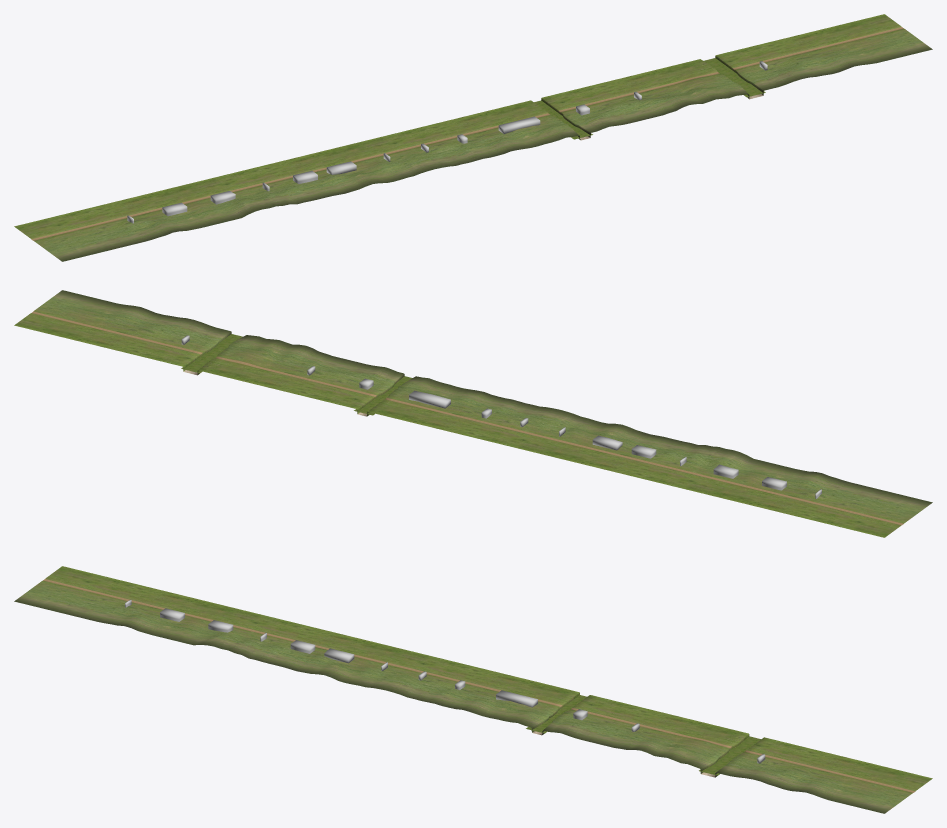
File: LandscapeLevel02.fbx
3 renders of one model, top to bottom at view 1: azimuth 30°, elevation 25°; view 2: azimuth 150°, elevation 25°; view 3: azimuth 330°, elevation 25°, orthographic.
Parts seen in each view (by area): view 1: Plane_001, Plane_020, Plane_021; view 2: Plane_001, Plane_020, Plane_021; view 3: Plane_001, Plane_020, Plane_021.
Part boxes in pixels (box(x1,y1,x2,y2)): Plane_001: box(14, 14, 932, 261); Plane_020: box(127, 61, 767, 223); Plane_021: box(534, 58, 765, 139); Plane_001: box(14, 290, 932, 537); Plane_020: box(181, 335, 821, 498); Plane_021: box(181, 334, 412, 415); Plane_001: box(14, 566, 932, 813); Plane_020: box(125, 599, 765, 763); Plane_021: box(526, 695, 760, 775).
Size of the model in its own units: 3600 by 43.46 by 347.
